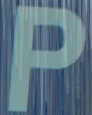Parking: (8, 1, 82, 109)
